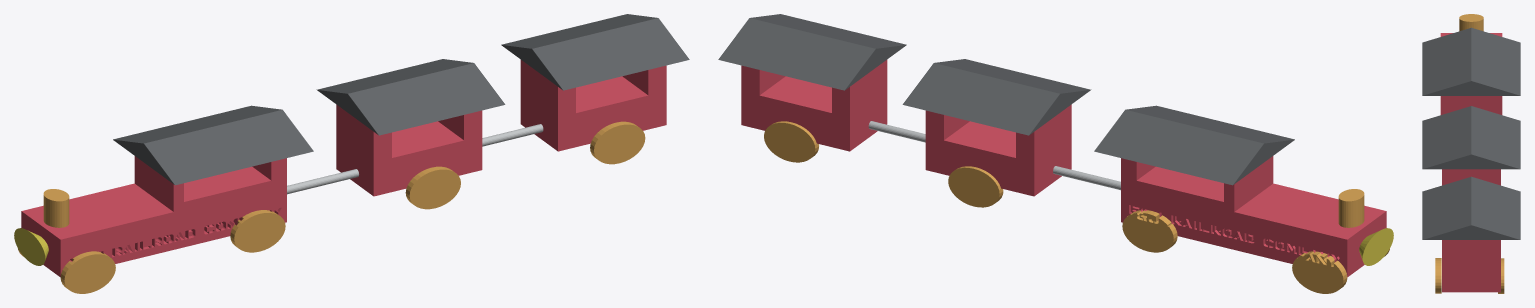
File: Train Project.glb
The picture shows the model from 3 angles, left to right: view 1: azimuth 30°, elevation 25°; view 2: azimuth 150°, elevation 25°; view 3: azimuth 270°, elevation 25°; orthographic projection. The views are drawn at different scales.
Visible parts, largest first — view 1: Mesh_Mesh_head_geo.001_lambert2SG.001; view 2: Mesh_Mesh_head_geo.001_lambert2SG.001; view 3: Mesh_Mesh_head_geo.001_lambert2SG.001.
Part boxes in pixels (box(x1,y1,x2,y2)): Mesh_Mesh_head_geo.001_lambert2SG.001: box(14, 14, 689, 293); Mesh_Mesh_head_geo.001_lambert2SG.001: box(718, 14, 1393, 293); Mesh_Mesh_head_geo.001_lambert2SG.001: box(1422, 14, 1520, 293).
Bounding box in the file's own units: 174 × 30 × 30.
